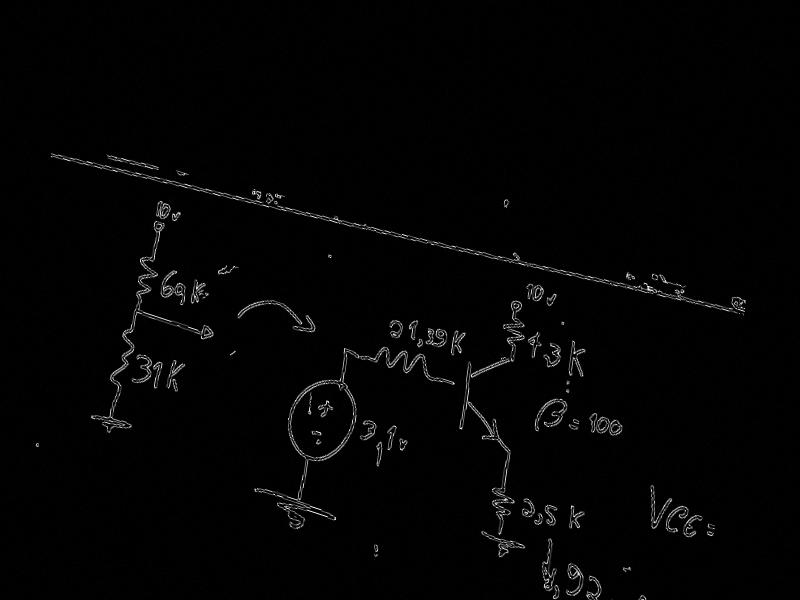-: (310, 427, 323, 440), (567, 421, 579, 432), (704, 528, 714, 539), (571, 417, 581, 426), (705, 522, 715, 531)
0: (607, 416, 624, 441), (594, 414, 612, 437), (531, 282, 545, 305), (158, 201, 172, 223)
1: (149, 359, 164, 392), (383, 422, 398, 453), (406, 317, 419, 343), (586, 409, 598, 434), (154, 198, 163, 218), (524, 282, 534, 300)
2: (583, 572, 606, 600), (386, 316, 404, 342), (519, 496, 537, 521)
3: (129, 350, 155, 390), (541, 340, 563, 373), (357, 415, 378, 447), (424, 326, 435, 348)
4: (524, 328, 543, 361)
5: (541, 502, 558, 528)
6: (561, 559, 587, 600), (158, 266, 177, 302)
9: (432, 325, 449, 351), (172, 281, 188, 307)
A: (633, 593, 655, 600)
V: (644, 484, 674, 536), (544, 289, 558, 310), (169, 208, 183, 225), (397, 437, 409, 454)
k: (566, 339, 588, 382), (164, 357, 187, 396), (188, 276, 208, 310), (566, 502, 587, 533), (449, 327, 467, 360)
m: (606, 596, 631, 600)
